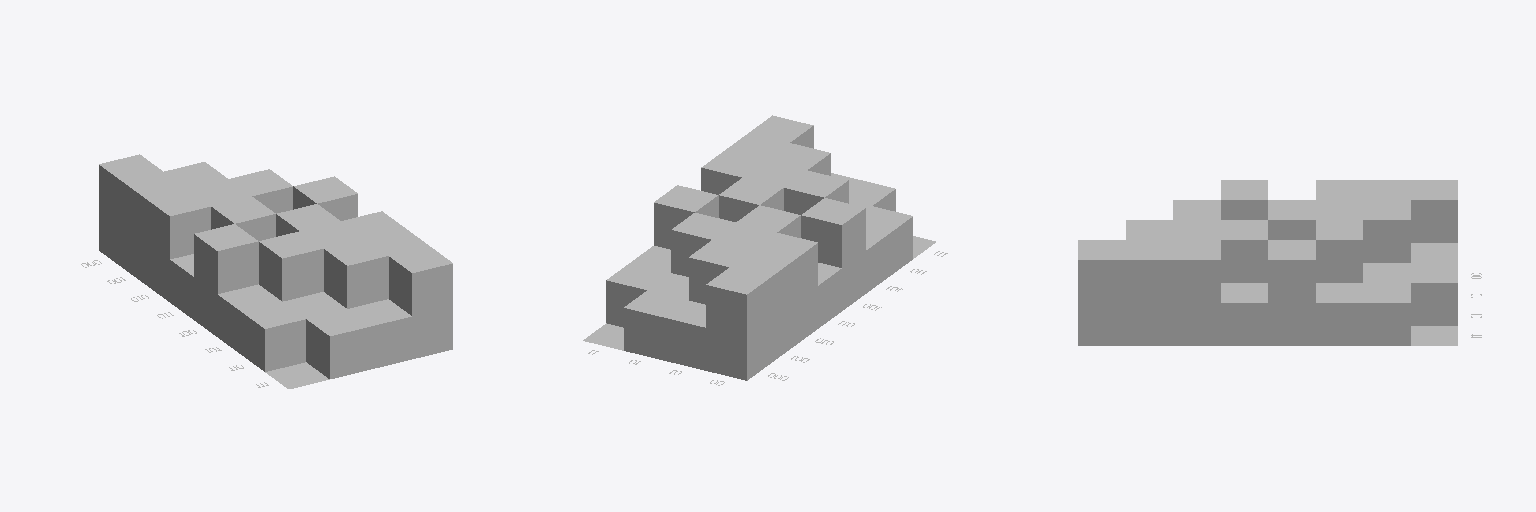
3 views of the same model, side by side, from view 1: azimuth 30°, elevation 25°; view 2: azimuth 150°, elevation 25°; view 3: azimuth 270°, elevation 25° (orthographic).
Parts seen in each view (by area): view 1: Object(4,8)[length_2], Object(1,5)[length_2], Object(1,3)[length_2], Object(2,6)[length_2], Object(2,8)[length_1], Object(1,7)[length_1], Object(3,7)[length_2], Object(1,2)[length_2], Object(1,1)[length_2], Object(3,8)[length_1], Object(1,6)[length_1], Object(4,4)[length_2] (+11 smaller); view 2: Object(1,1)[length_2], Object(1,5)[length_2], Object(1,2)[length_2], Object(1,3)[length_2], Object(3,1)[length_1], Object(2,1)[length_1], Object(4,4)[length_2], Object(4,2)[length_1], Object(3,3)[length_2], Object(2,2)[length_2], Object(2,6)[length_2], Object(3,5)[length_2] (+14 smaller); view 3: Object(4,4)[length_2], Object(4,6)[length_2], Object(4,8)[length_2], Object(4,7)[length_2], Object(2,2)[length_2], Object(4,2)[length_1], Object(1,1)[length_2], Object(3,1)[length_1], Object(3,3)[length_2], Object(3,5)[length_2], Object(4,3)[length_1], Object(4,5)[length_1] (+11 smaller).
Part boxes in pixels (bbox=[...]): Object(4,8)[length_2]: bbox=[389, 246, 452, 358]; Object(1,5)[length_2]: bbox=[194, 224, 258, 336]; Object(1,3)[length_2]: bbox=[146, 189, 210, 301]; Object(2,6)[length_2]: bbox=[259, 231, 323, 301]; Object(2,8)[length_1]: bbox=[306, 309, 370, 378]; Object(1,7)[length_1]: bbox=[241, 302, 305, 371]; Object(3,7)[length_2]: bbox=[324, 239, 388, 308]; Object(1,2)[length_2]: bbox=[122, 172, 186, 284]; Object(1,1)[length_2]: bbox=[99, 154, 162, 266]; Object(3,8)[length_1]: bbox=[348, 299, 411, 368]; Object(1,6)[length_1]: bbox=[218, 284, 281, 353]; Object(4,4)[length_2]: bbox=[293, 176, 357, 220]; Object(1,1)[length_2]: bbox=[706, 267, 770, 380]; Object(1,5)[length_2]: bbox=[801, 198, 865, 310]; Object(1,2)[length_2]: bbox=[730, 250, 794, 362]; Object(1,3)[length_2]: bbox=[754, 233, 817, 345]; Object(3,1)[length_1]: bbox=[624, 290, 687, 360]; Object(2,1)[length_1]: bbox=[665, 300, 705, 370]; Object(4,4)[length_2]: bbox=[654, 185, 718, 249]; Object(4,2)[length_1]: bbox=[606, 263, 669, 327]; Object(3,3)[length_2]: bbox=[671, 213, 735, 276]; Object(2,2)[length_2]: bbox=[689, 240, 752, 304]; Object(2,6)[length_2]: bbox=[784, 170, 848, 214]; Object(3,5)[length_2]: bbox=[719, 178, 783, 221]; Object(4,4)[length_2]: bbox=[1268, 240, 1315, 345]; Object(4,6)[length_2]: bbox=[1173, 240, 1220, 345]; Object(4,8)[length_2]: bbox=[1078, 240, 1125, 345]; Object(4,7)[length_2]: bbox=[1126, 240, 1172, 345]; Object(2,2)[length_2]: bbox=[1363, 200, 1410, 262]; Object(4,2)[length_1]: bbox=[1363, 283, 1410, 345]; Object(1,1)[length_2]: bbox=[1411, 180, 1457, 242]; Object(3,1)[length_1]: bbox=[1411, 263, 1457, 325]; Object(3,3)[length_2]: bbox=[1316, 220, 1362, 282]; Object(3,5)[length_2]: bbox=[1221, 220, 1267, 282]; Object(4,3)[length_1]: bbox=[1316, 283, 1362, 345]; Object(4,5)[length_1]: bbox=[1221, 283, 1267, 345].
Size of the model in its own units: 4.69 by 2 by 8.5.